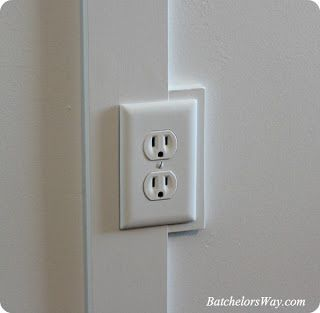outlet: (148, 173, 174, 200), (148, 133, 174, 158)
